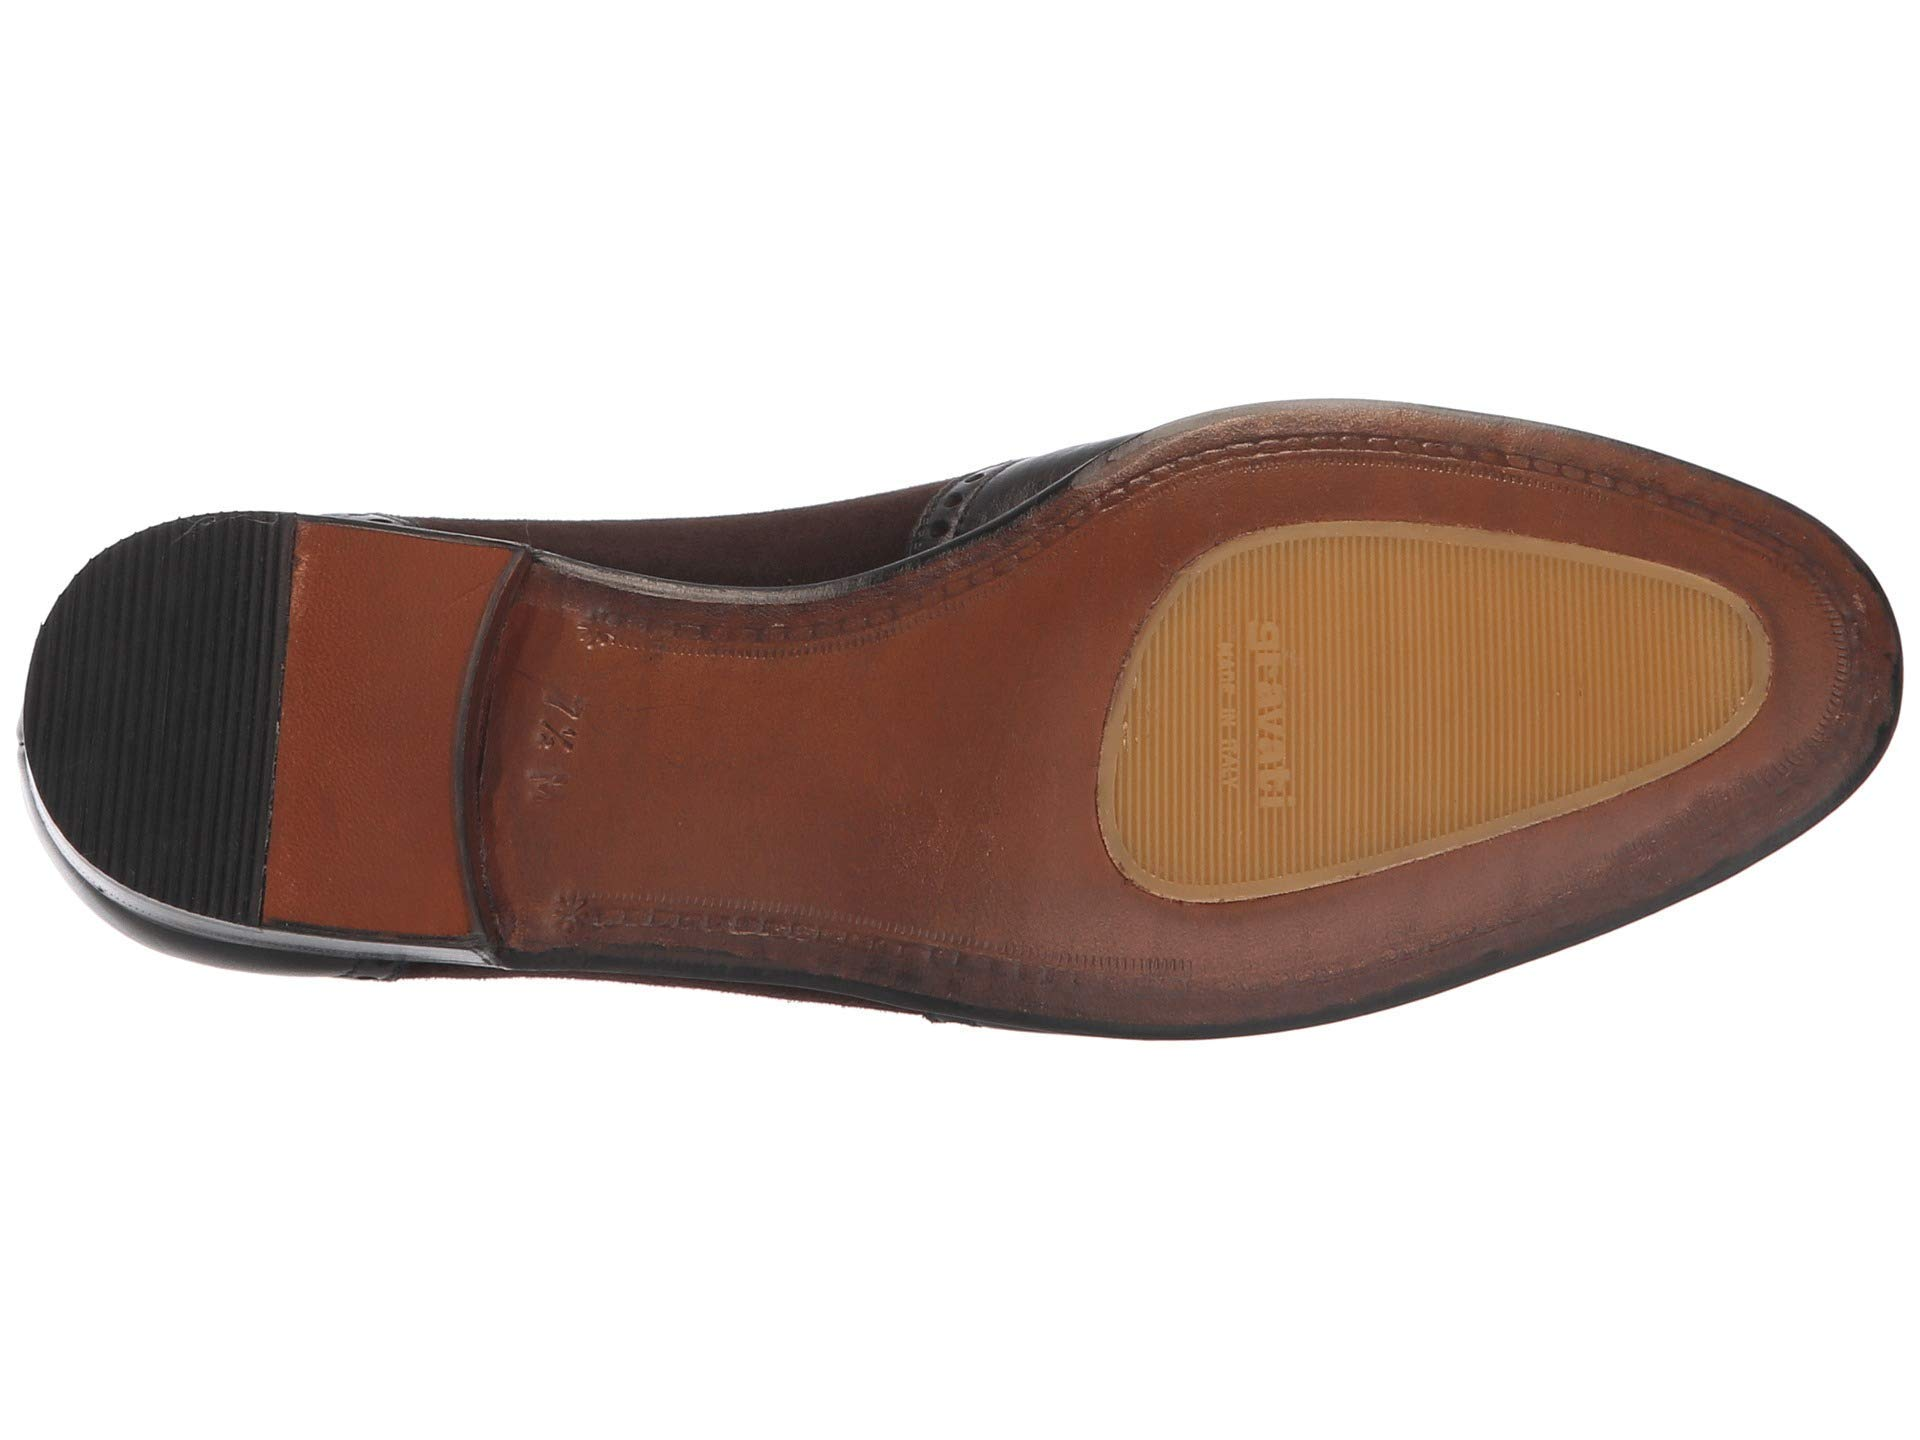line: (1321, 561, 1574, 812), (1098, 587, 1315, 846), (62, 608, 280, 827)
text: (1098, 587, 1315, 846)
